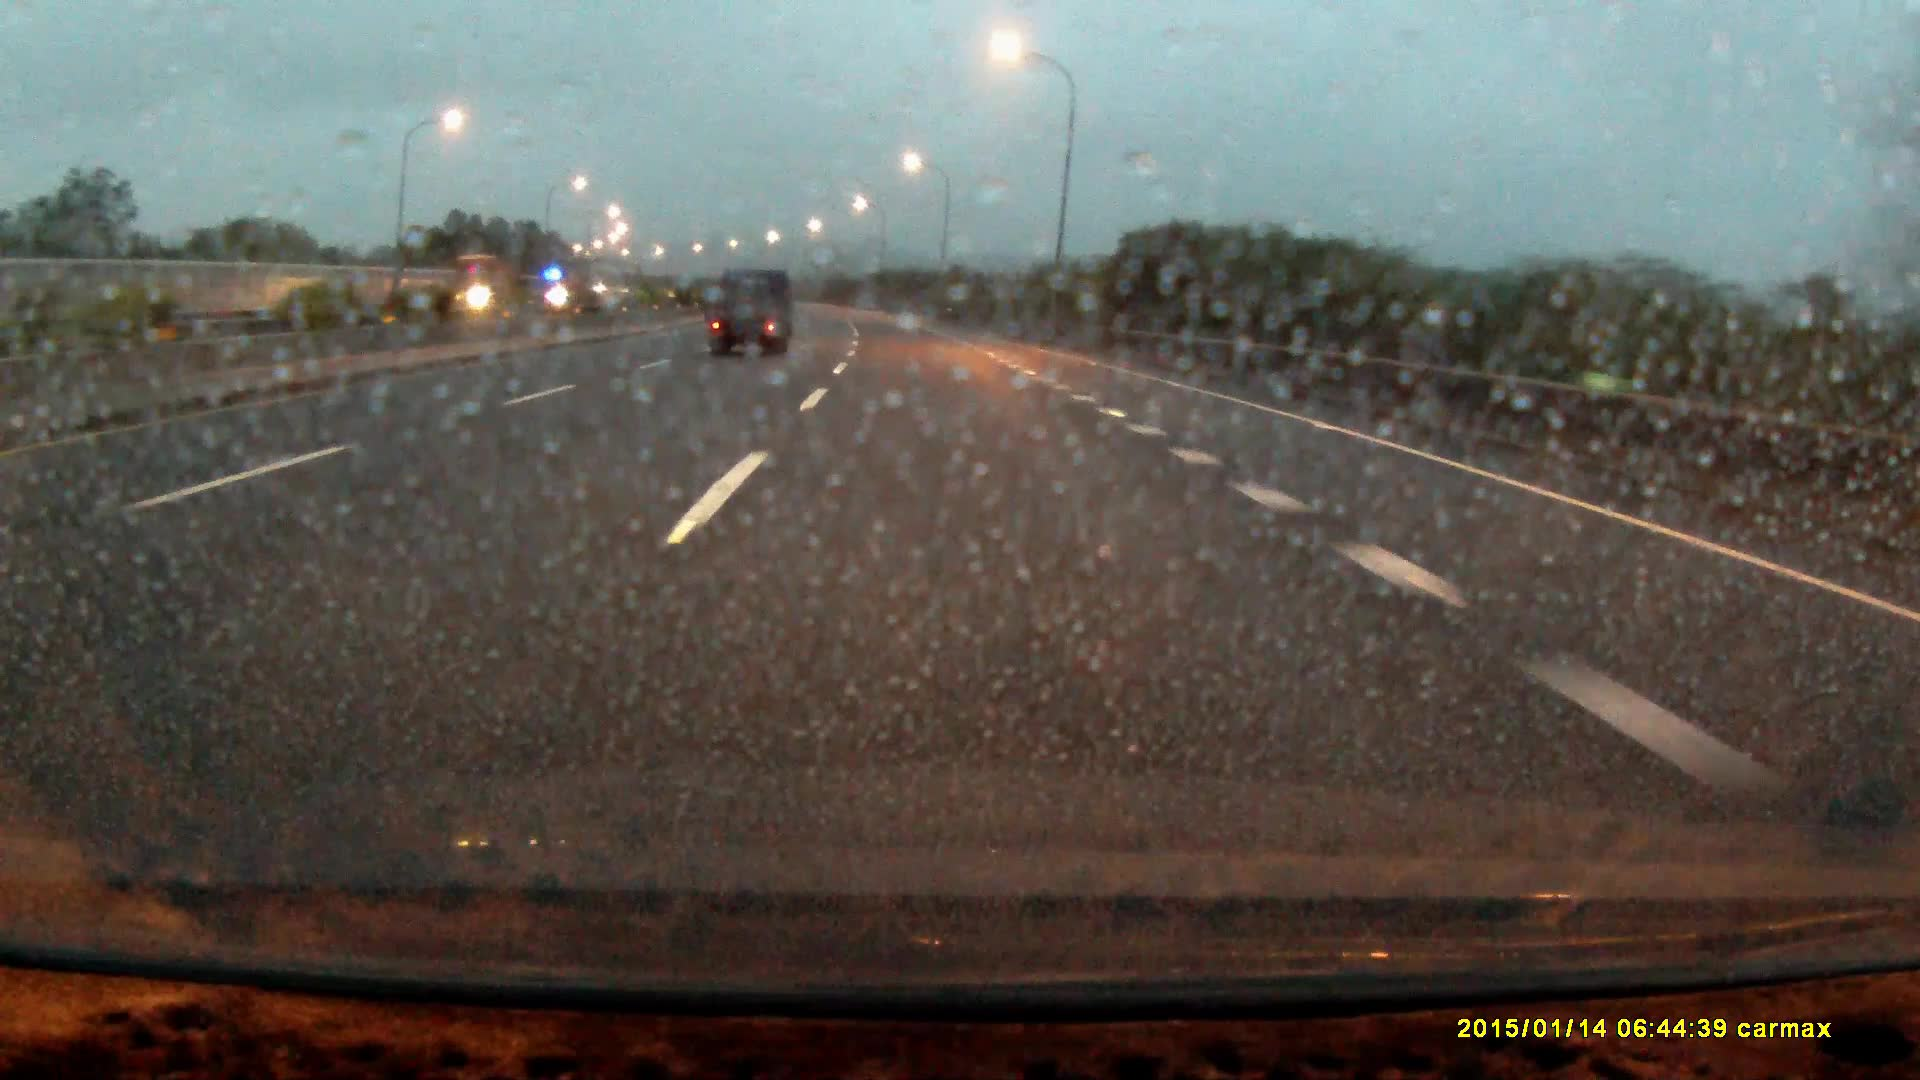vehicle: (712, 266, 791, 360), (448, 251, 524, 313)
